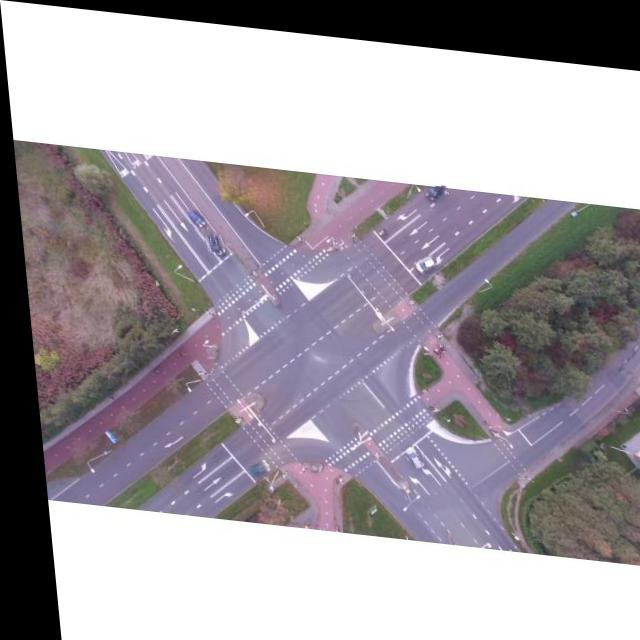vehicle: (198, 225, 224, 253), (395, 437, 418, 461), (409, 244, 432, 267), (420, 175, 446, 195), (239, 452, 262, 474), (184, 205, 203, 226)
